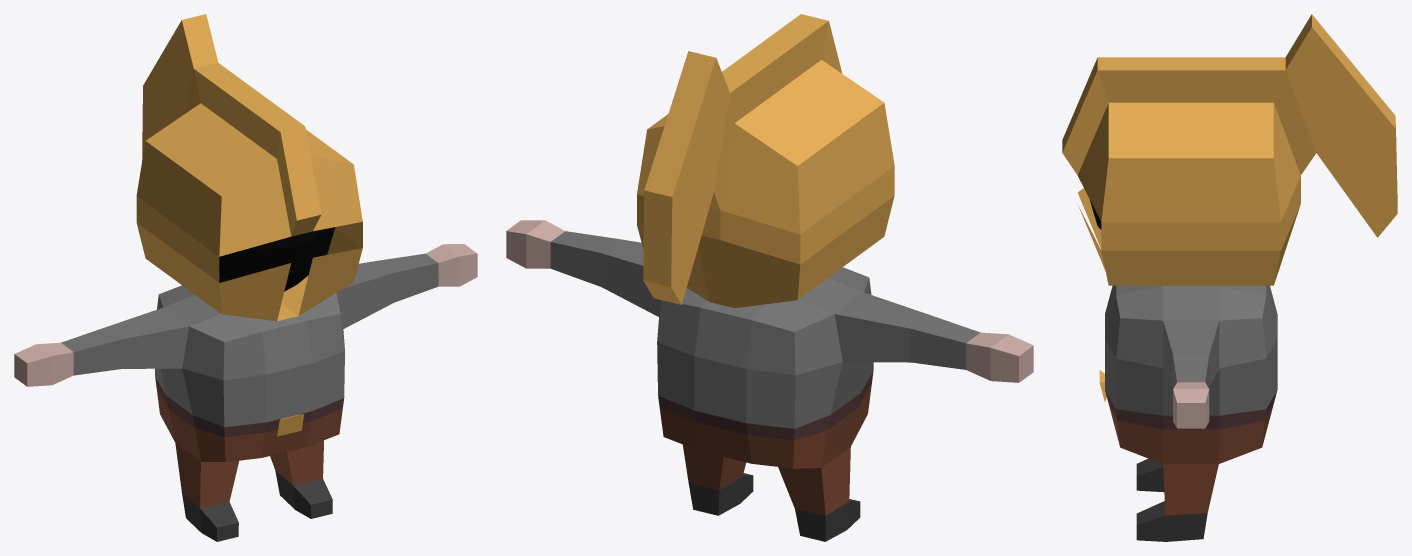
Rendered from Hero.fbx.
3 renders of one model, left to right at view 1: azimuth 30°, elevation 25°; view 2: azimuth 150°, elevation 25°; view 3: azimuth 270°, elevation 25°, orthographic. The views are drawn at different scales.
Parts seen in each view (by area): view 1: Cube.000, Cube.001; view 2: Cube.001, Cube.000; view 3: Cube.000, Cube.001.
Boxes of the visible parts, x1=… form: Cube.000: x1=136, y1=14, x2=362, y2=321; Cube.001: x1=14, y1=244, x2=477, y2=541; Cube.001: x1=506, y1=220, x2=1033, y2=541; Cube.000: x1=637, y1=14, x2=894, y2=308; Cube.000: x1=1062, y1=14, x2=1397, y2=285; Cube.001: x1=1099, y1=285, x2=1277, y2=541.
Size of the model in its own units: 302 by 290 by 180.
